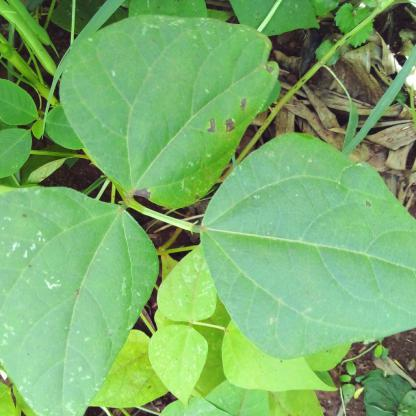Beans_Angular_LeafSpot: (0, 191, 162, 416), (210, 158, 400, 340), (82, 20, 265, 202)
